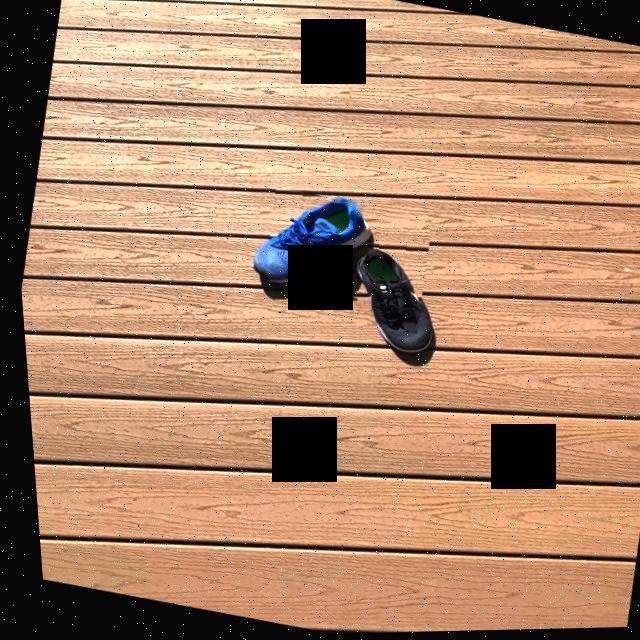shoe: (248, 202, 416, 335)
